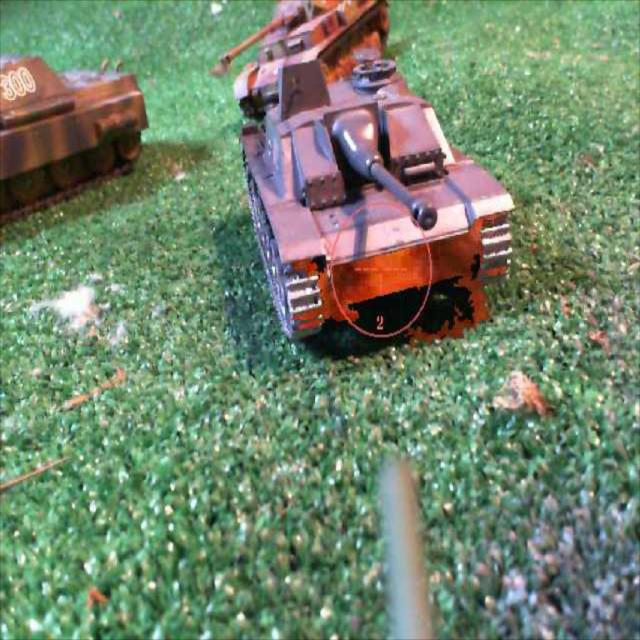tank: (238, 56, 517, 342), (0, 52, 152, 226), (217, 0, 391, 122)
